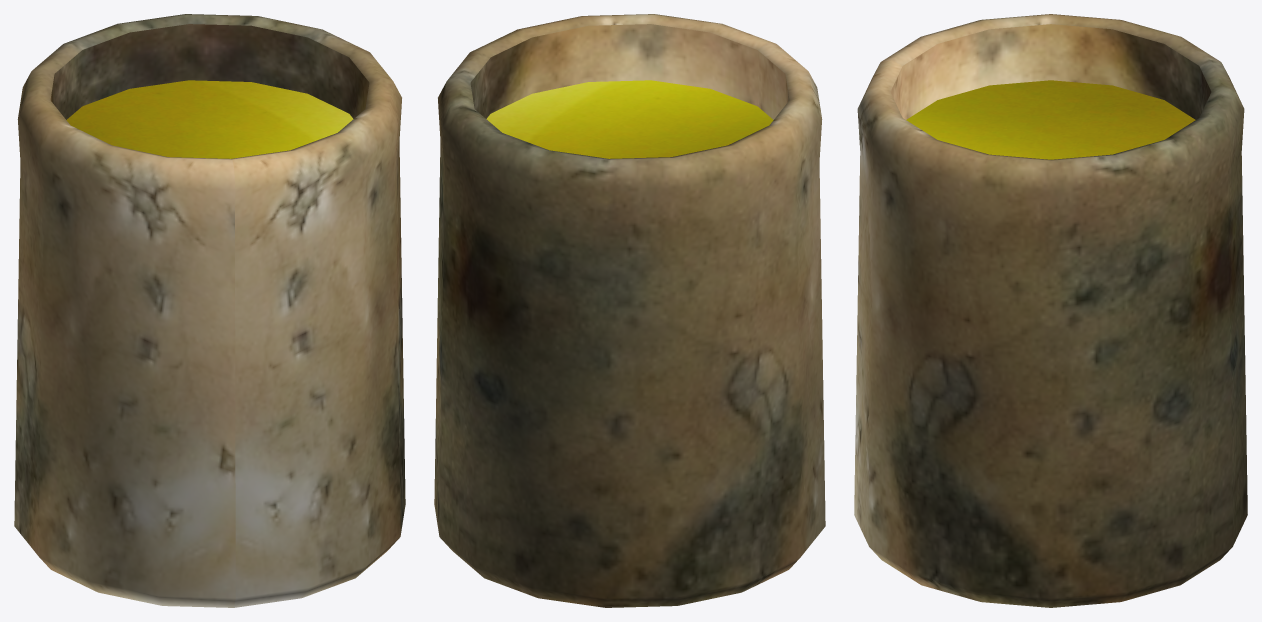
File: teacup_j.fbx
3 views of the same model, side by side, from view 1: azimuth 30°, elevation 25°; view 2: azimuth 150°, elevation 25°; view 3: azimuth 270°, elevation 25° (orthographic).
Parts seen in each view (by area): view 1: teacup_j; view 2: teacup_j; view 3: teacup_j.
Part boxes in pixels (left/top/right/bottom): teacup_j: left=14, top=14, right=405, bottom=607; teacup_j: left=434, top=14, right=825, bottom=607; teacup_j: left=854, top=14, right=1247, bottom=607.
Bounding box in the file's own units: 5.92 × 7.34 × 5.92.
